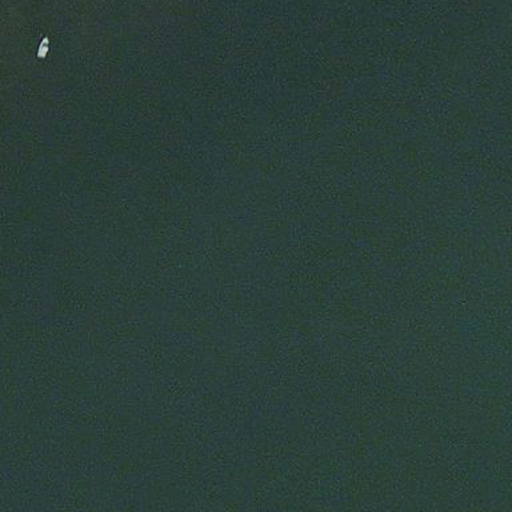ship: (33, 33, 53, 62)
